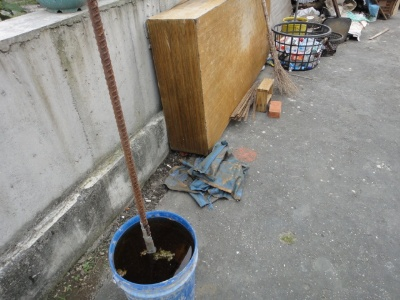bucket: (104, 209, 201, 300)
plastic_bag: (159, 145, 248, 209)
